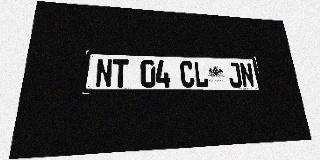0: (141, 60, 156, 87)
4: (155, 60, 171, 87)
C: (179, 61, 195, 87)
J: (227, 62, 243, 87)
L: (193, 61, 209, 87)
N: (95, 58, 113, 87), (239, 63, 255, 87)
T: (112, 59, 129, 87)
